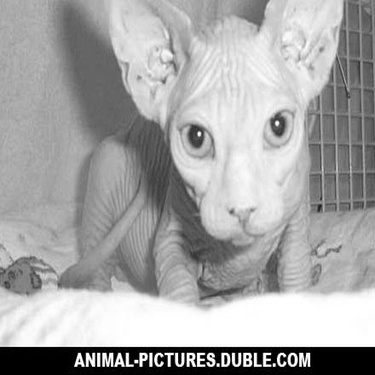cat: (1, 1, 341, 304)
